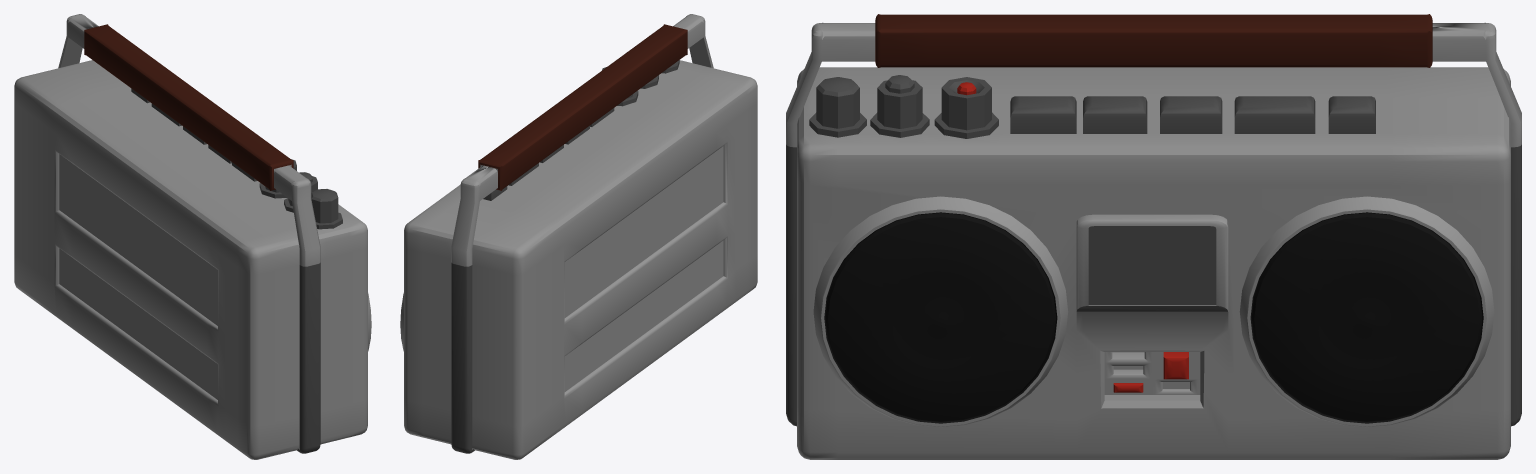
Rendered from teyp.fbx.
The picture shows the model from 3 angles, left to right: view 1: azimuth 30°, elevation 25°; view 2: azimuth 150°, elevation 25°; view 3: azimuth 270°, elevation 25°; orthographic projection. The views are drawn at different scales.
Parts seen in each view (by area): view 1: Cube; view 2: Cube; view 3: Cube.
Boxes of the visible parts, x1,y1,x2,y2 form: Cube: [14, 14, 371, 459]; Cube: [400, 14, 757, 459]; Cube: [786, 14, 1521, 459].
Bounding box in the file's own units: 23.71 × 45.85 × 75.04.
